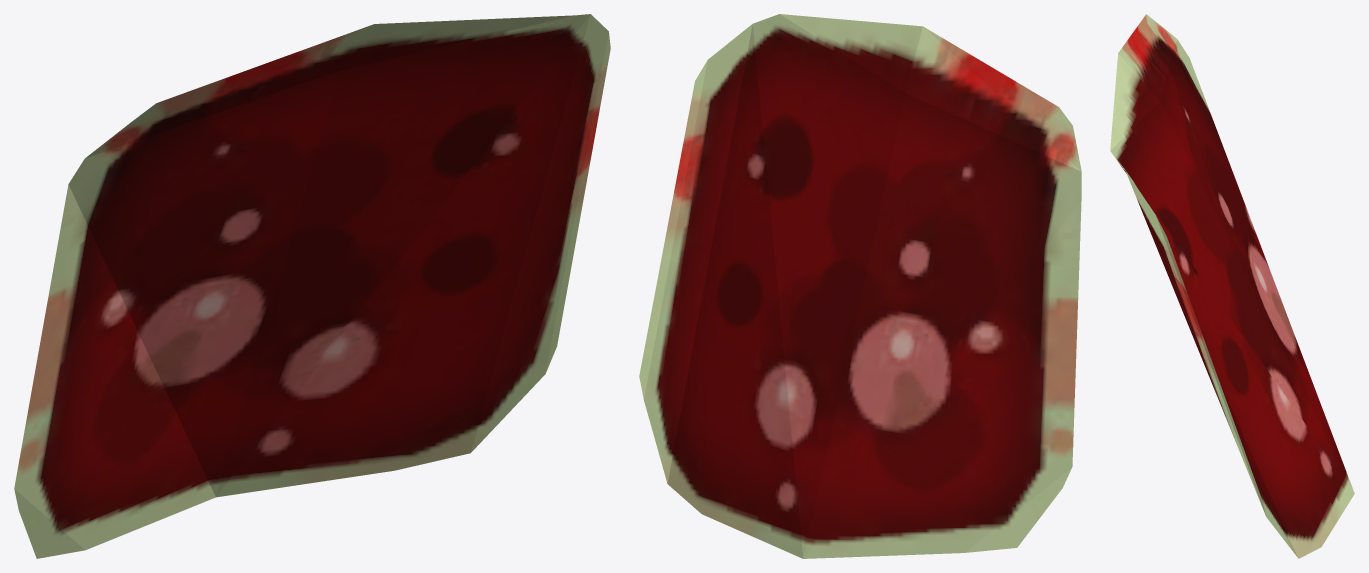
File: Zombie_Little_Cook_Head_Break_46831a05__bloodstain_72021c27_c1f257.obj
3 views of the same model, side by side, from view 1: azimuth 30°, elevation 25°; view 2: azimuth 150°, elevation 25°; view 3: azimuth 270°, elevation 25° (orthographic). The views are drawn at different scales.
Bounding box in the file's own units: 0.5584 × 0.5632 × 0.2835.
1 material, 1 textured.
